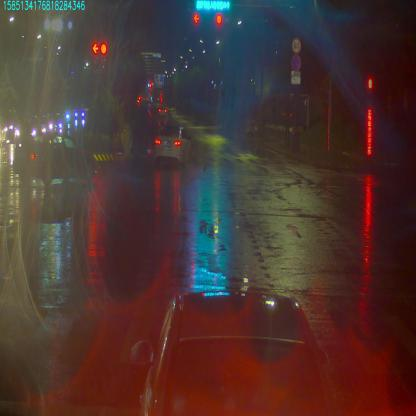traffic-light: (195, 0, 233, 8), (216, 12, 223, 24), (194, 12, 200, 22)
